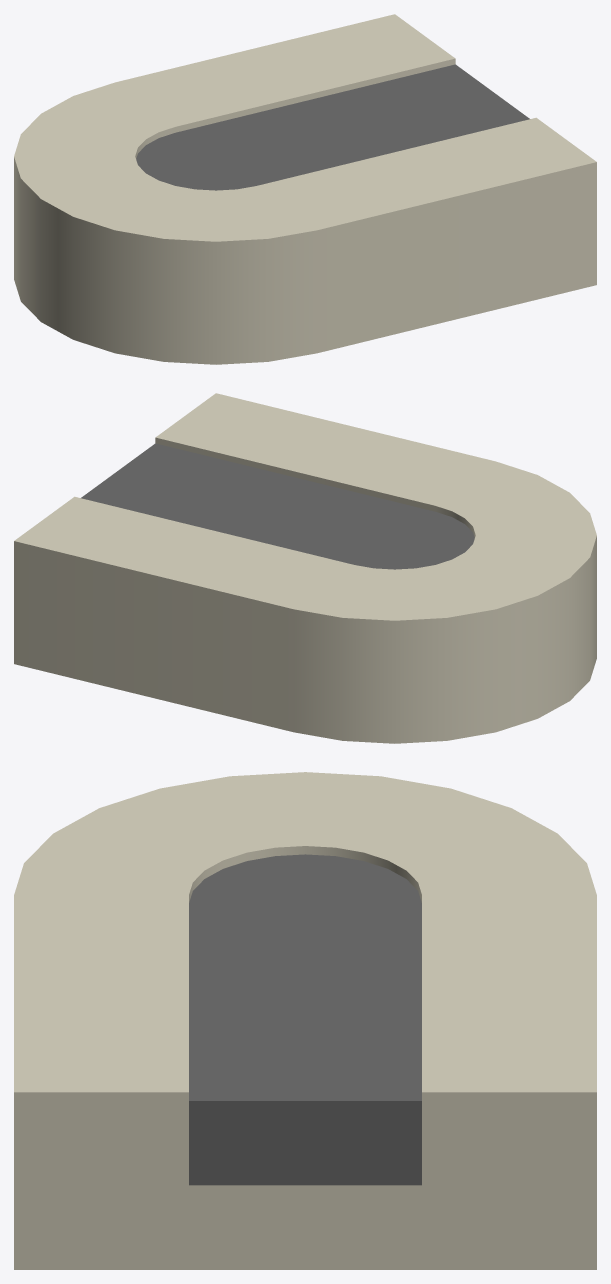
File: roadTile_136.fbx
The picture shows the model from 3 angles, top to bottom: view 1: azimuth 30°, elevation 25°; view 2: azimuth 150°, elevation 25°; view 3: azimuth 270°, elevation 25°; orthographic projection. The views are drawn at different scales.
Parts seen in each view (by area): view 1: roadTile_136; view 2: roadTile_136; view 3: roadTile_136.
Part boxes in pixels (left/top/right/bottom): roadTile_136: left=14, top=14, right=596, bottom=364; roadTile_136: left=14, top=393, right=596, bottom=743; roadTile_136: left=14, top=772, right=596, bottom=1269.
Size of the model in its own units: 95.96 by 24.8 by 73.82.
